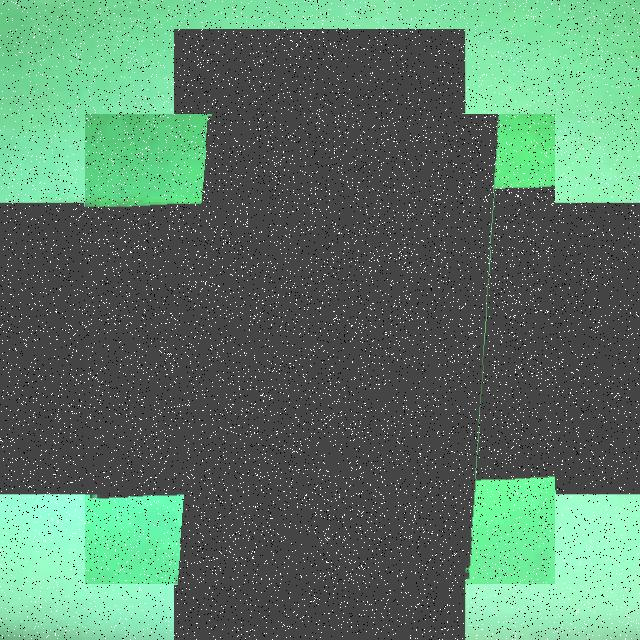lima puluh ribu rupiah: (85, 114, 555, 584)
